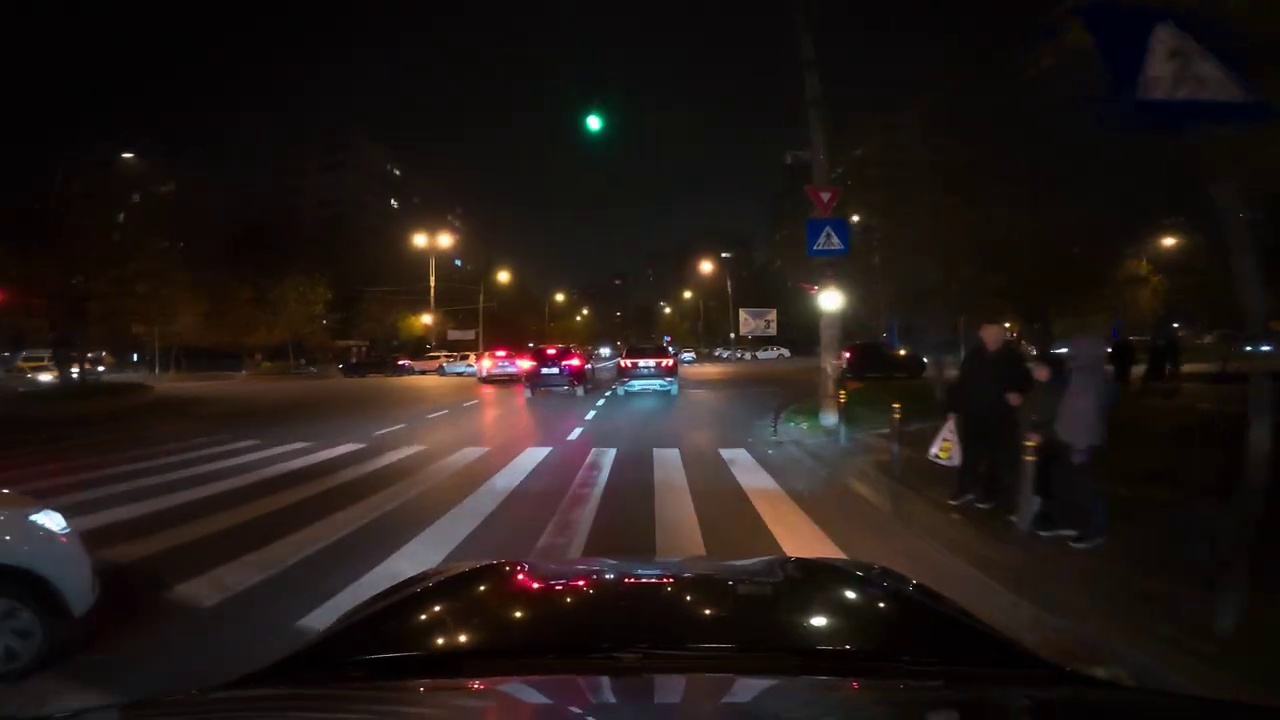acesa: (813, 285, 847, 318), (415, 229, 456, 252), (694, 255, 720, 280), (492, 266, 516, 289)
